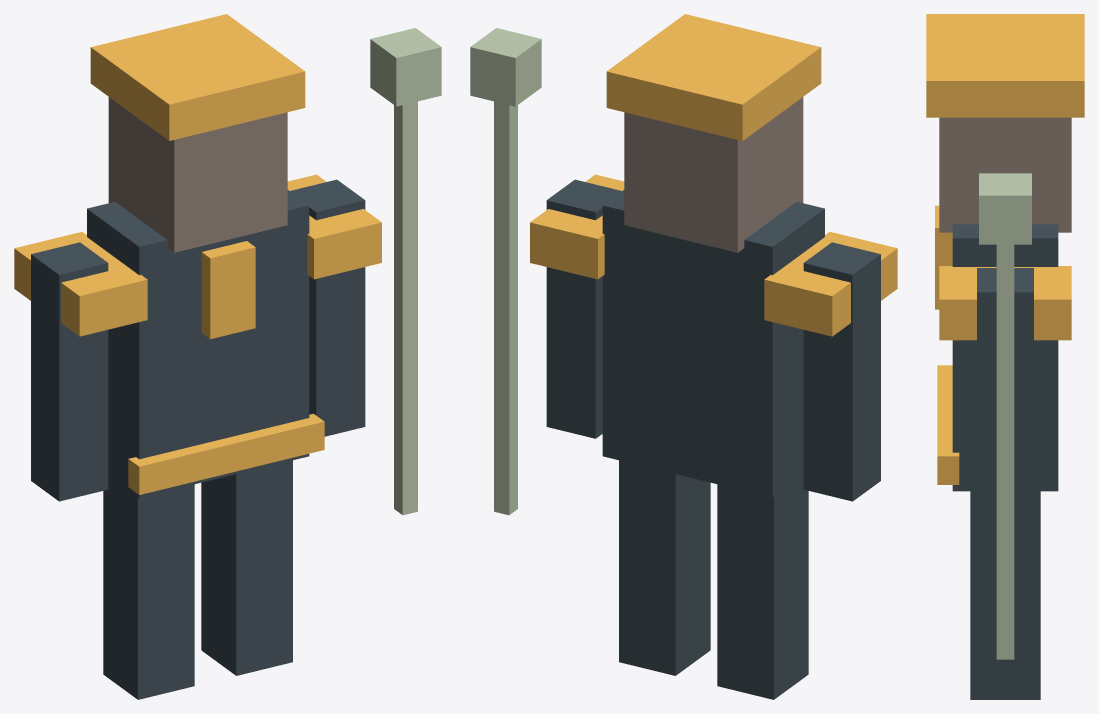
Rendered from 10_makoa_stormhush_custodian_near_entry.glb.
3 views of the same model, side by side, from view 1: azimuth 30°, elevation 25°; view 2: azimuth 150°, elevation 25°; view 3: azimuth 270°, elevation 25° (orthographic).
Visible parts, largest first — view 1: Makoa Stormhush, Custodian near Entry; view 2: Makoa Stormhush, Custodian near Entry; view 3: Makoa Stormhush, Custodian near Entry.
Boxes of the visible parts, left/top/right/bottom form: Makoa Stormhush, Custodian near Entry: left=14, top=14, right=441, bottom=699; Makoa Stormhush, Custodian near Entry: left=470, top=14, right=897, bottom=699; Makoa Stormhush, Custodian near Entry: left=926, top=14, right=1084, bottom=699.
Size of the model in its own units: 1.09 by 1.66 by 0.3876.
